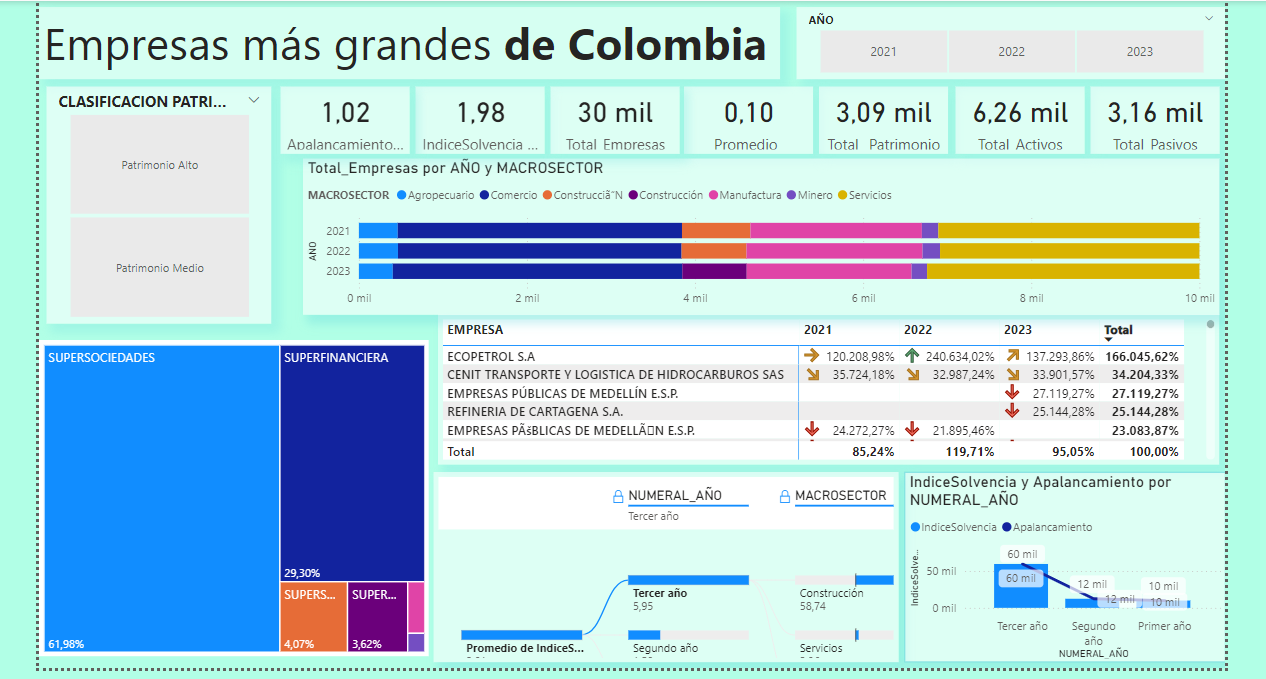

Layout of this report page (visuals, bound fields, positions):
{"tool":"powerbi","page":{"name":"Página 2","canvas":[1280,720],"ordinal":1},"visuals":[{"type":"textbox","box":[0,6.5,799.9,77.7],"z":0},{"type":"slicer","fields":{"Values":["10 000_empresas.CLASIFICACION PATRIMONIO"]},"box":[8.1,92.3,242.9,255.8],"z":1000},{"type":"slicer","fields":{"Values":["10 000_empresas.AÑO"]},"box":[817.7,6.5,463.1,77.7],"z":2000},{"type":"pivotTable","fields":{"Columns":["10 000_empresas.AÑO"],"Values":["Sum(10 000_empresas.GANANCIA)"],"Rows":["10 000_empresas.EMPRESA"]},"box":[430.7,338.4,843.6,161.9],"z":3000},{"type":"card","fields":{"Values":["10 000_empresas.Promedio_"]},"box":[696.3,92.3,139.3,72.9],"z":4000},{"type":"card","fields":{"Values":["10 000_empresas.Total_"]},"box":[842,92.3,139.3,72.9],"z":5000},{"type":"card","fields":{"Values":["10 000_empresas.Total_Activos"]},"box":[989.3,92.3,139.3,72.9],"z":7000},{"type":"card","fields":{"Values":["10 000_empresas.Total_Pasivos"]},"box":[1135.1,92.3,139.3,72.9],"z":8000},{"type":"barChart","fields":{"Y":["10 000_empresas.Total_Empresas"],"Category":["10 000_empresas.AÑO"],"Series":["10 000_empresas.MACROSECTOR"]},"box":[285,170,989.3,168.4],"z":10000},{"type":"treemap","fields":{"Group":["10 000_empresas.SUPERVISOR"],"Values":["10 000_empresas.Total_ Patrimonio"]},"box":[0,365.9,421,341.7],"z":11000},{"type":"card","fields":{"Values":["10 000_empresas.IndiceSolvencia"]},"box":[406.4,92.3,139.3,72.9],"z":11001},{"type":"card","fields":{"Values":["10 000_empresas.Total_Empresas"]},"box":[552.2,92.3,139.3,72.9],"z":11002},{"type":"card","fields":{"Values":["10 000_empresas.Apalancamiento veces"]},"box":[260.7,92.3,139.3,72.9],"z":11003},{"type":"decompositionTreeVisual","fields":{"Analyze":["Avg(10 000_empresas.IndiceSolvencia)"],"ExplainBy":["10 000_empresas.NUMERAL_AÑO","10 000_empresas.MACROSECTOR"]},"box":[425.9,508.4,502,205.6],"z":11004},{"type":"lineStackedColumnComboChart","fields":{"Category":["10 000_empresas.NUMERAL_AÑO"],"Y":["Sum(10 000_empresas.IndiceSolvencia)"],"Y2":["Sum(10 000_empresas.Apalancamiento)"]},"box":[934.3,508.4,346.5,205.6],"z":11005}]}

Visuals, with their boxes on the page's 1280x720 design canvas (x1, y1, x2, y2). These are canvas units, not pixel positions in the 1266x679 screenshot, which may show the page scaled, cropped or inside an application window:
textbox: bbox(0, 6, 800, 84)
slicer - 10 000_empresas.CLASIFICACION PATRIMONIO: bbox(8, 92, 251, 348)
slicer - 10 000_empresas.AÑO: bbox(818, 6, 1281, 84)
pivotTable - 10 000_empresas.AÑO x Sum(10 000_empresas.GANANCIA): bbox(431, 338, 1274, 500)
card - 10 000_empresas.Promedio_: bbox(696, 92, 836, 165)
card - 10 000_empresas.Total_: bbox(842, 92, 981, 165)
card - 10 000_empresas.Total_Activos: bbox(989, 92, 1129, 165)
card - 10 000_empresas.Total_Pasivos: bbox(1135, 92, 1274, 165)
barChart - 10 000_empresas.Total_Empresas x 10 000_empresas.AÑO: bbox(285, 170, 1274, 338)
treemap - 10 000_empresas.SUPERVISOR x 10 000_empresas.Total_ Patrimonio: bbox(0, 366, 421, 708)
card - 10 000_empresas.IndiceSolvencia: bbox(406, 92, 546, 165)
card - 10 000_empresas.Total_Empresas: bbox(552, 92, 692, 165)
card - 10 000_empresas.Apalancamiento veces: bbox(261, 92, 400, 165)
decompositionTreeVisual - Avg(10 000_empresas.IndiceSolvencia) x 10 000_empresas.NUMERAL_AÑO: bbox(426, 508, 928, 714)
lineStackedColumnComboChart - 10 000_empresas.NUMERAL_AÑO x Sum(10 000_empresas.IndiceSolvencia): bbox(934, 508, 1281, 714)
